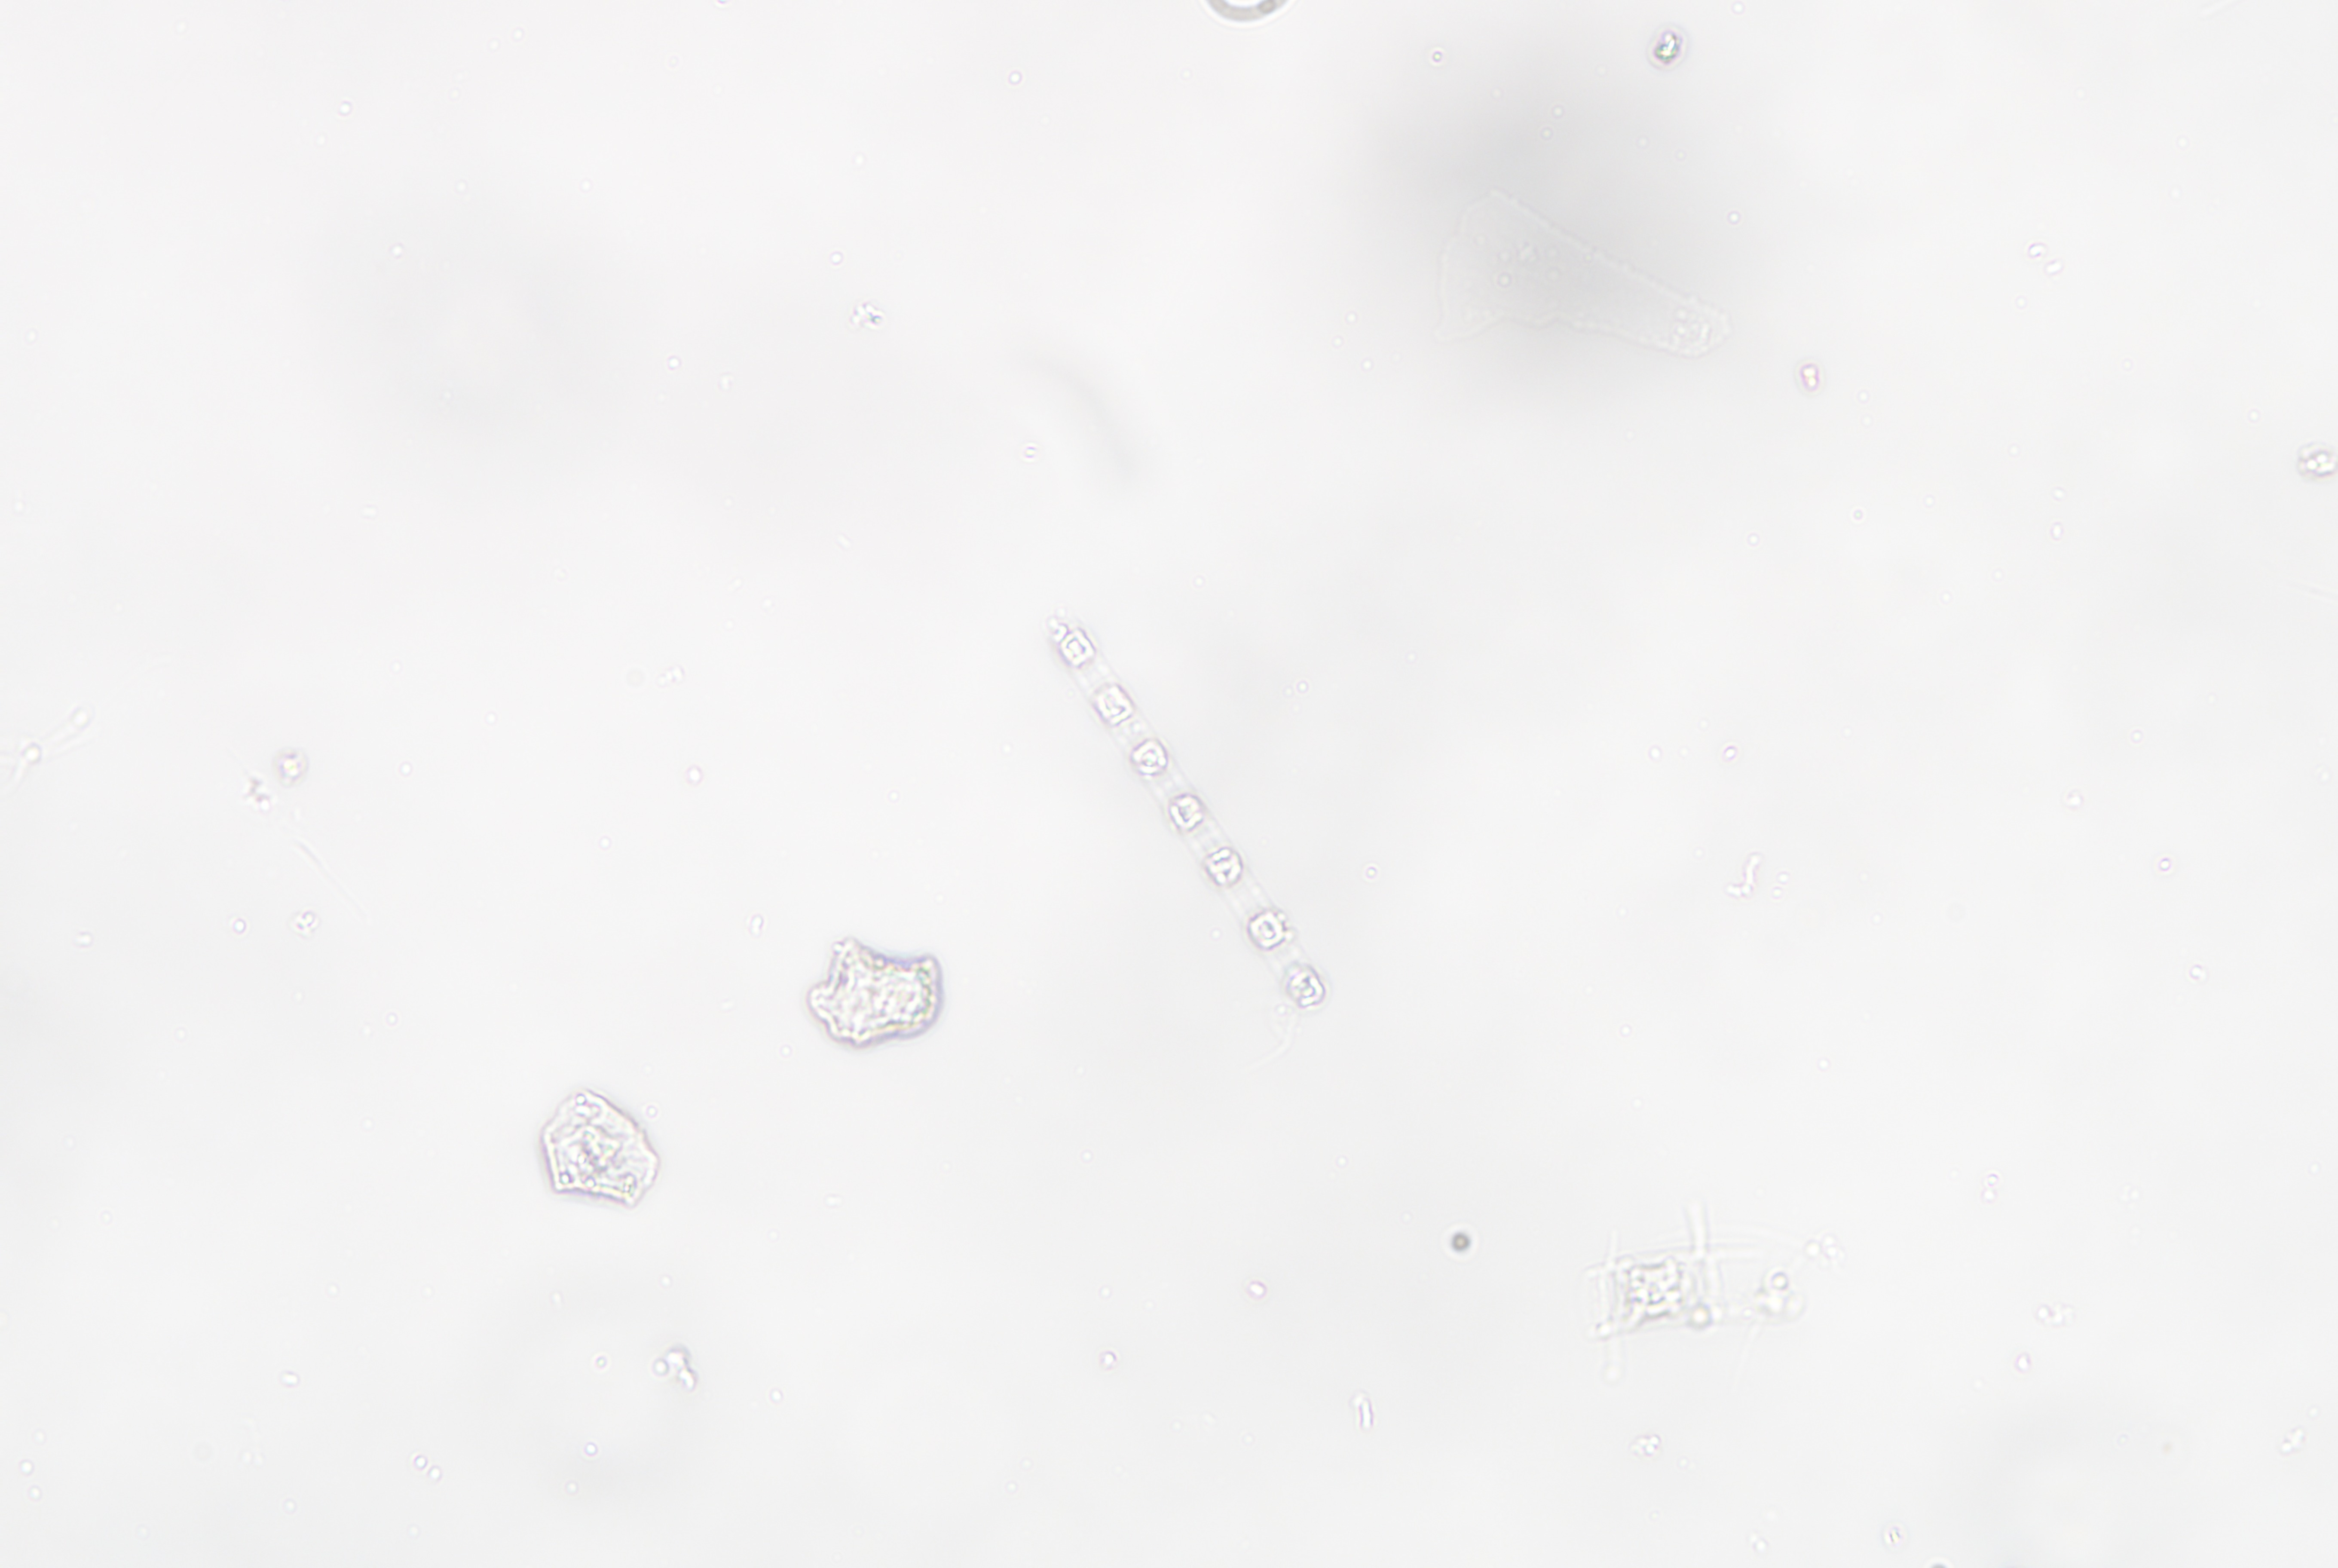skeletonema: (1043, 619, 1328, 1010)
